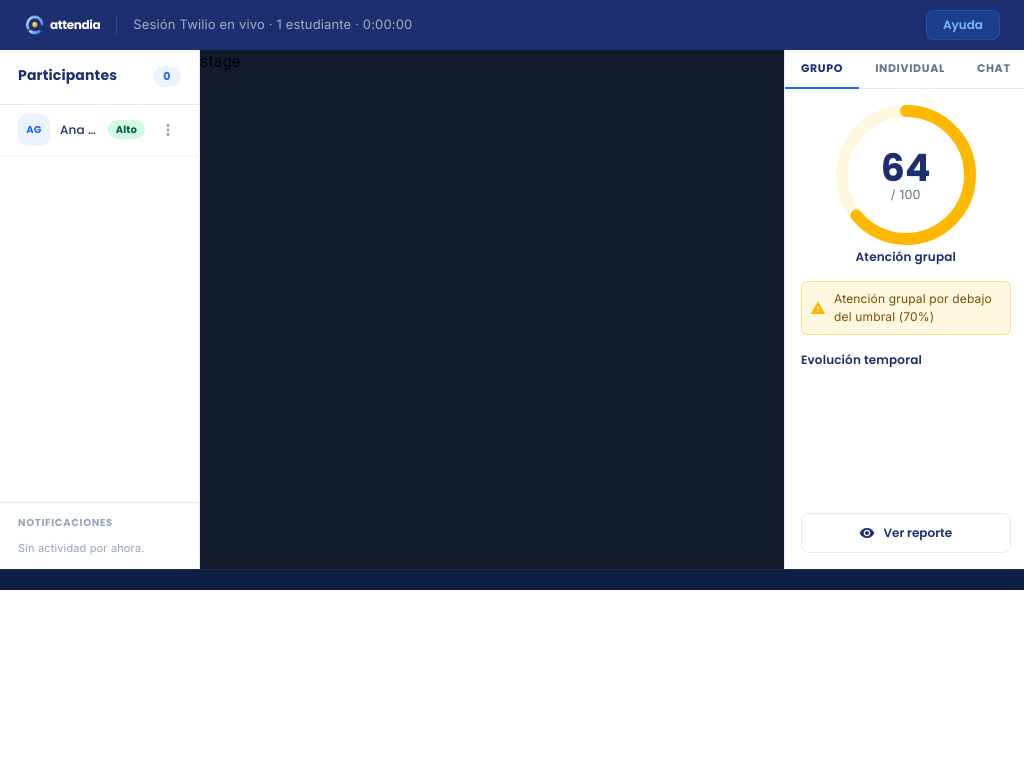
Scenario: ProfessorRoomShell › mutes a student from the roster kebab menu
Click the button with test id "professor-room-shell-roster-menu-button": (168, 130) [155, 118, 181, 140]
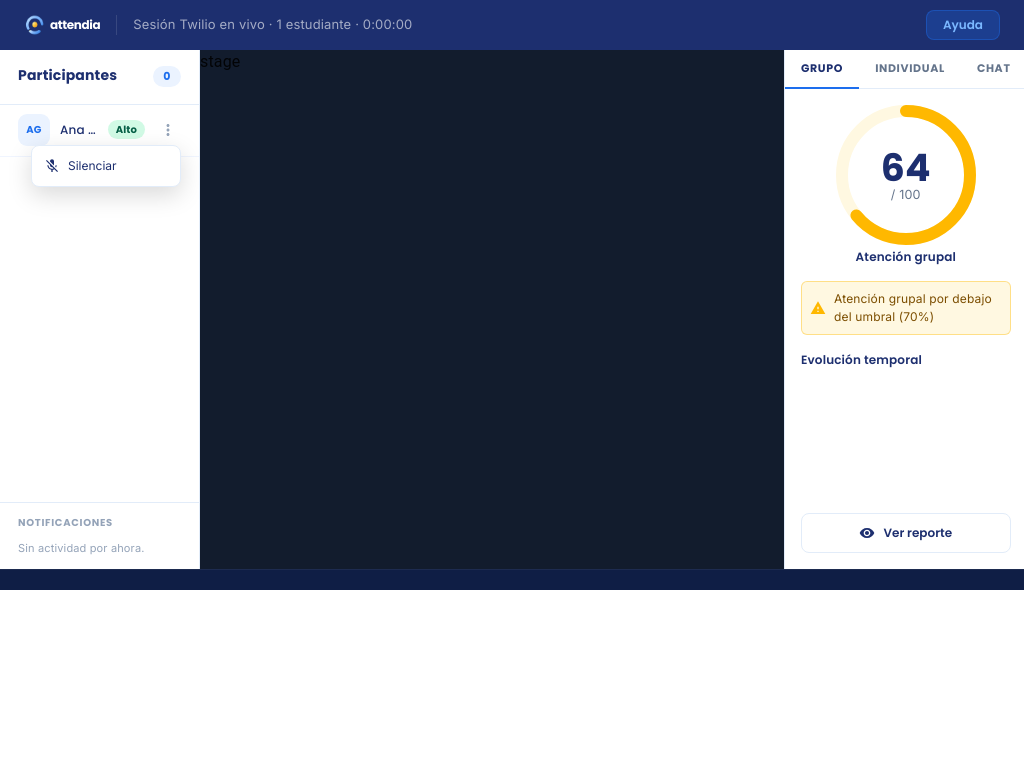
Check: the menu with test id "professor-room-shell-roster-menu" is shown, box [31, 144, 181, 186]
Click the menu item with test id "professor-room-shell-roster-mute": (106, 166) [32, 150, 180, 182]
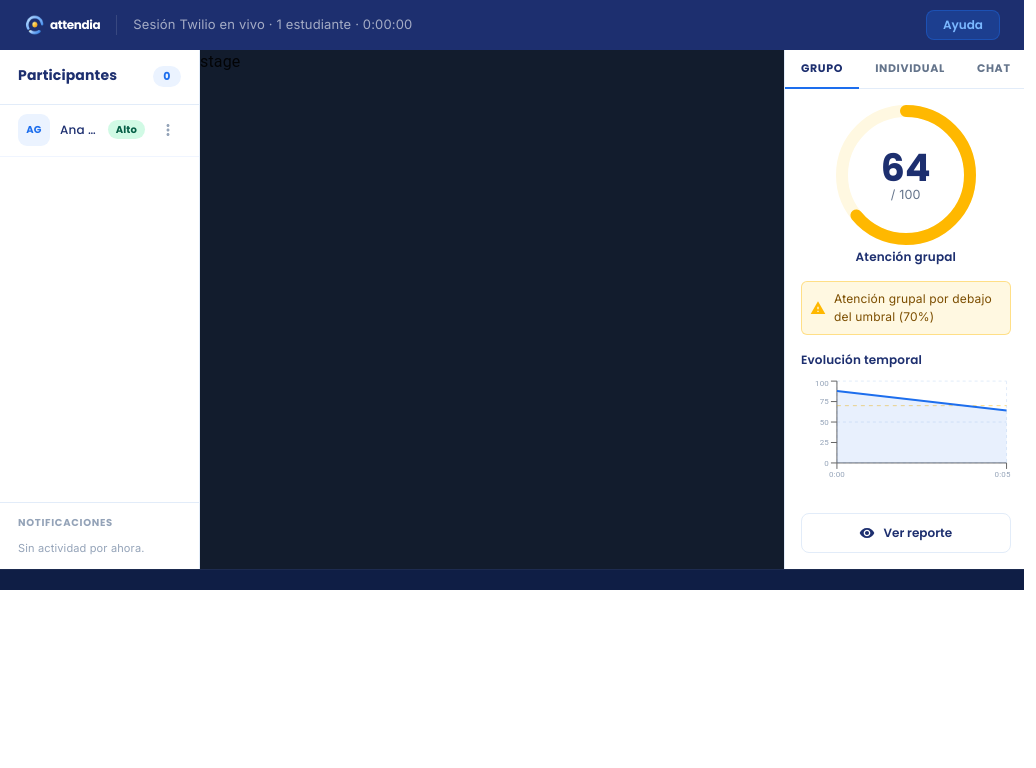
Check: the menu with test id "professor-room-shell-roster-menu" is gone
